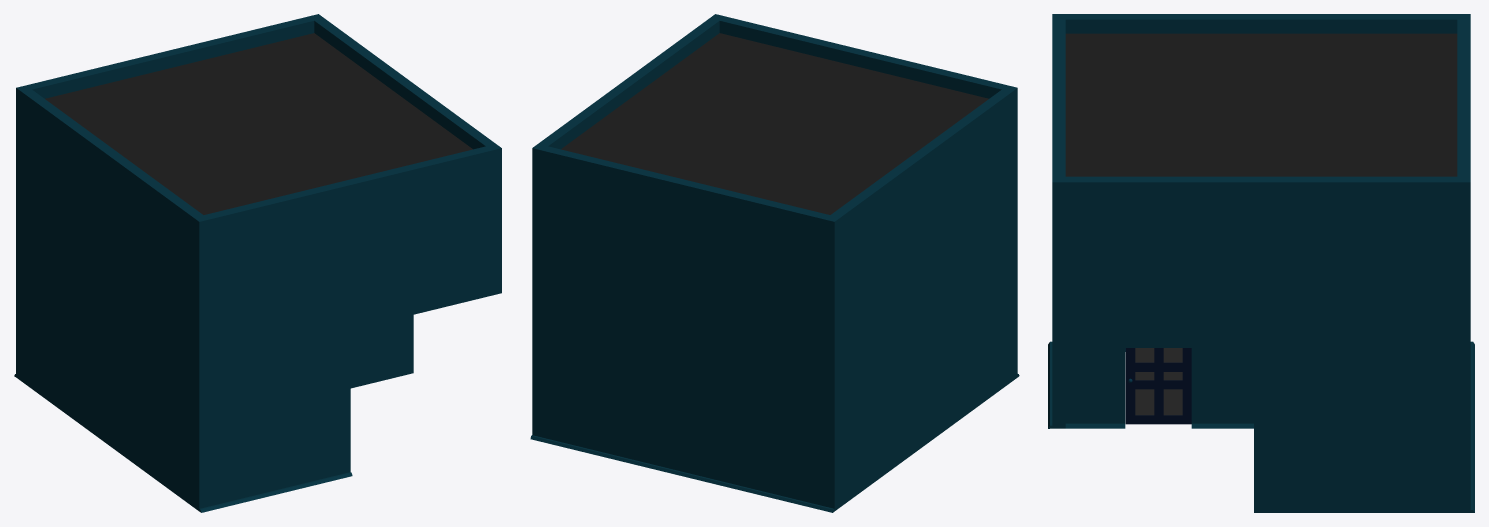
File: side house2.fbx
The picture shows the model from 3 angles, left to right: view 1: azimuth 30°, elevation 25°; view 2: azimuth 150°, elevation 25°; view 3: azimuth 270°, elevation 25°; orthographic projection. The views are drawn at different scales.
Parts seen in each view (by area): view 1: wall.149; view 2: wall.149; view 3: wall.149.
Part boxes in pixels (bbox=[...]): wall.149: bbox=[14, 14, 501, 512]; wall.149: bbox=[530, 14, 1019, 512]; wall.149: bbox=[1048, 14, 1474, 512].
Bounding box in the file's own units: 60.03 × 54.92 × 64.27.
